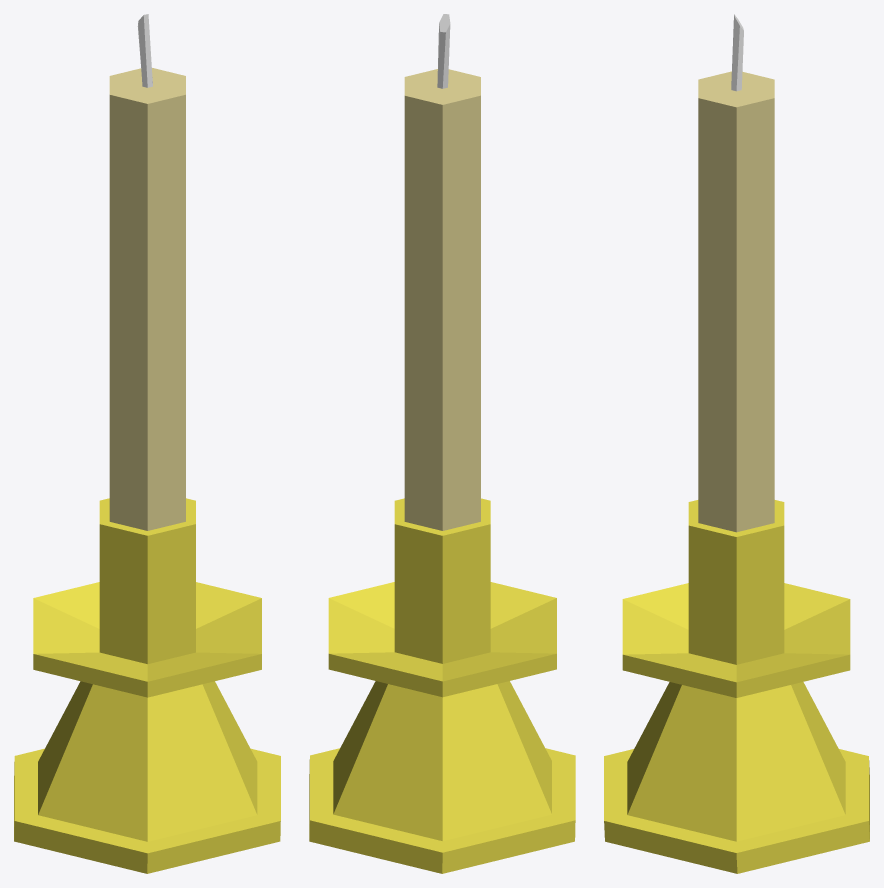
The model's file is Model_swiecznik_4.fbx.
3 views of the same model, side by side, from view 1: azimuth 30°, elevation 25°; view 2: azimuth 150°, elevation 25°; view 3: azimuth 270°, elevation 25° (orthographic).
Parts seen in each view (by area): view 1: Mesh_swiecznik_4; view 2: Mesh_swiecznik_4; view 3: Mesh_swiecznik_4.
Part boxes in pixels (x1,y1,x2,y2): Mesh_swiecznik_4: (14,14,280,873); Mesh_swiecznik_4: (309,14,575,873); Mesh_swiecznik_4: (604,14,869,873).
Bounding box in the file's own units: 8.14 × 26.77 × 9.36.
